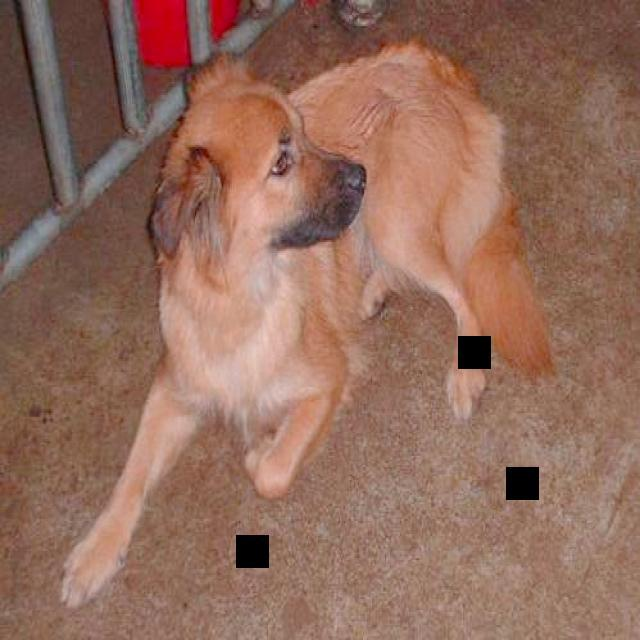adult_dog: (52, 34, 557, 612)
